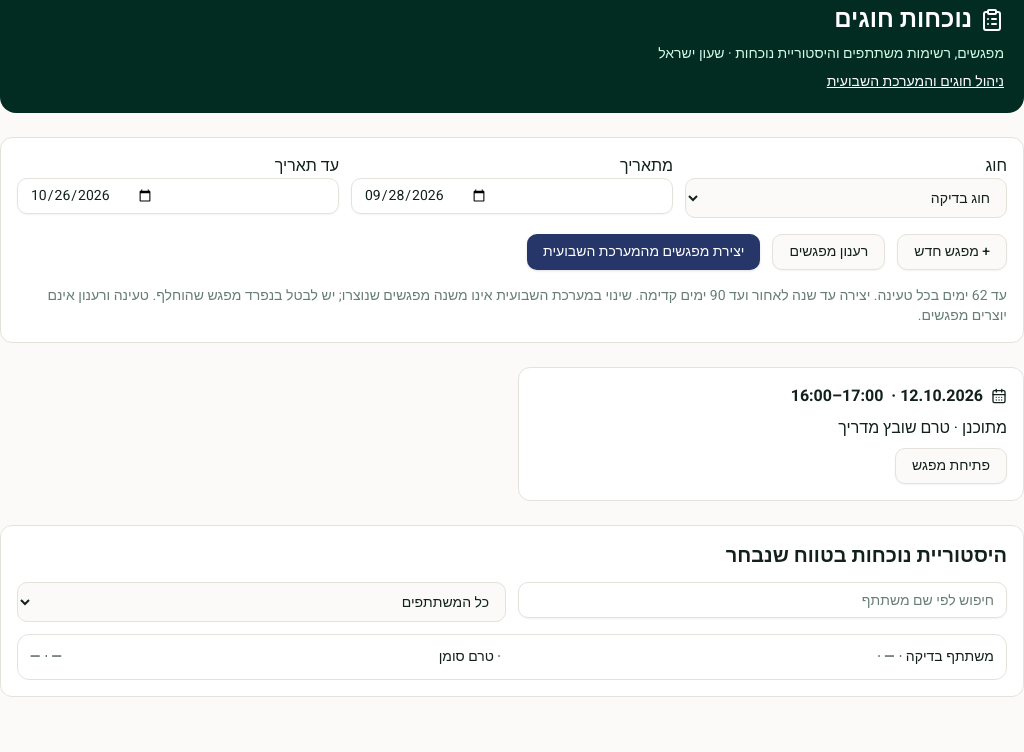
Test: marks carry version and notes, double click does not issue concurrent writes
Click the button "פתיחת מפגש" at (951, 466), box [895,448,1007,484]
(page scrolled)
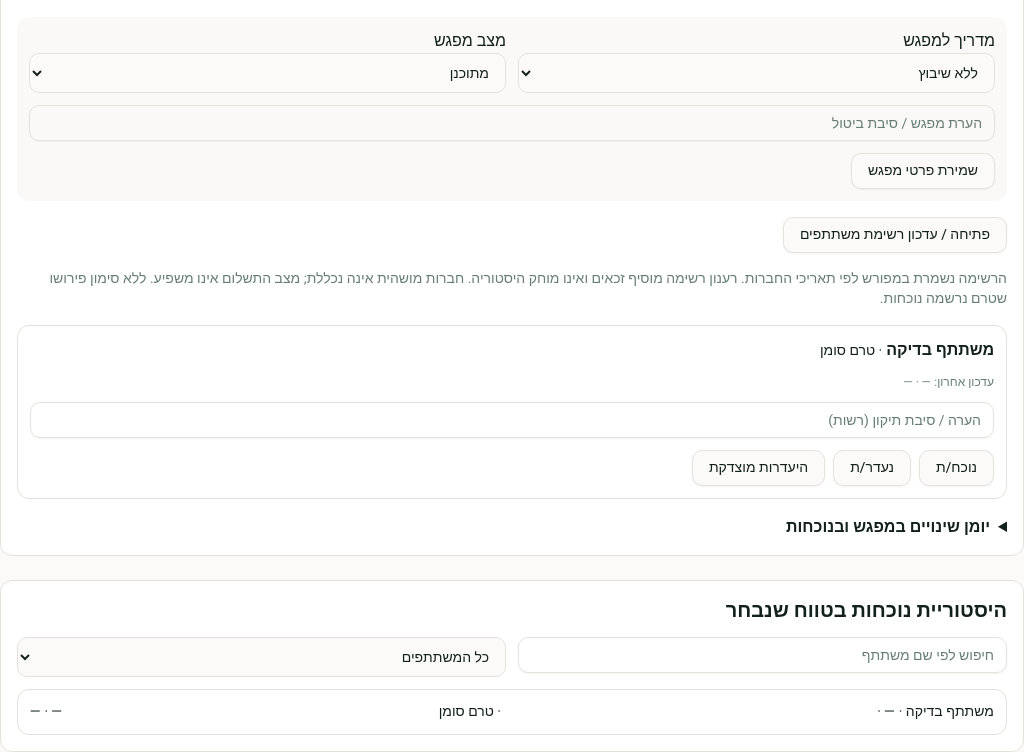
Type "תיקון" into the field named "הערה עבור משתתף בדיקה" at (512, 420), box [30,402,994,438]
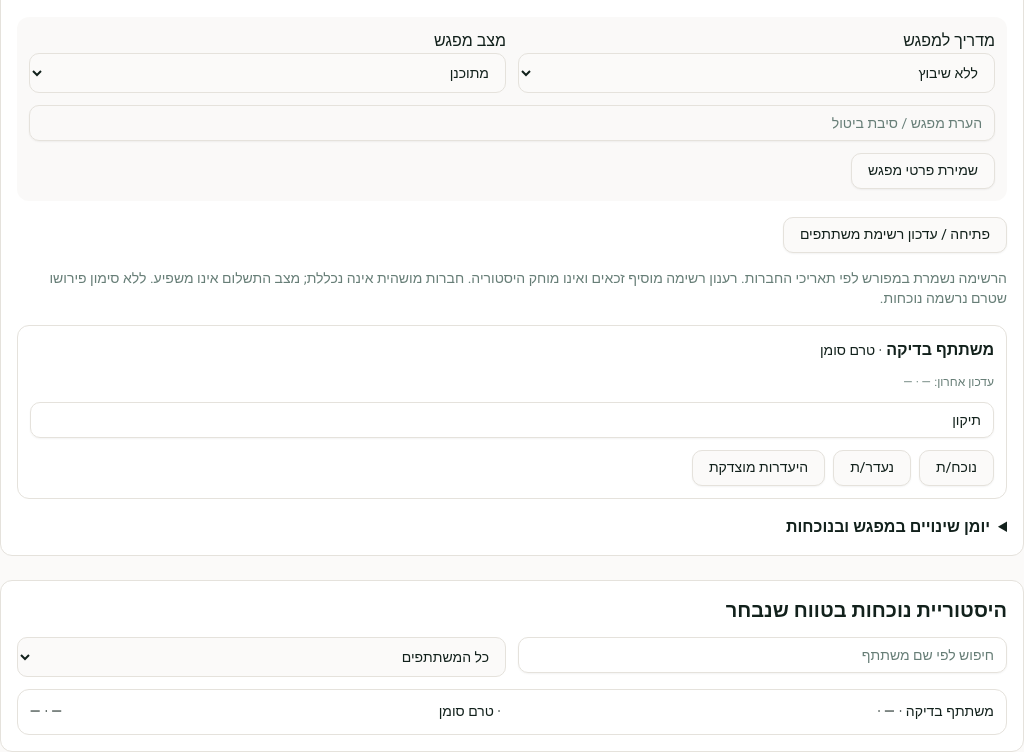
Click the button "נוכח/ת" at (956, 468), box [919,450,994,486]
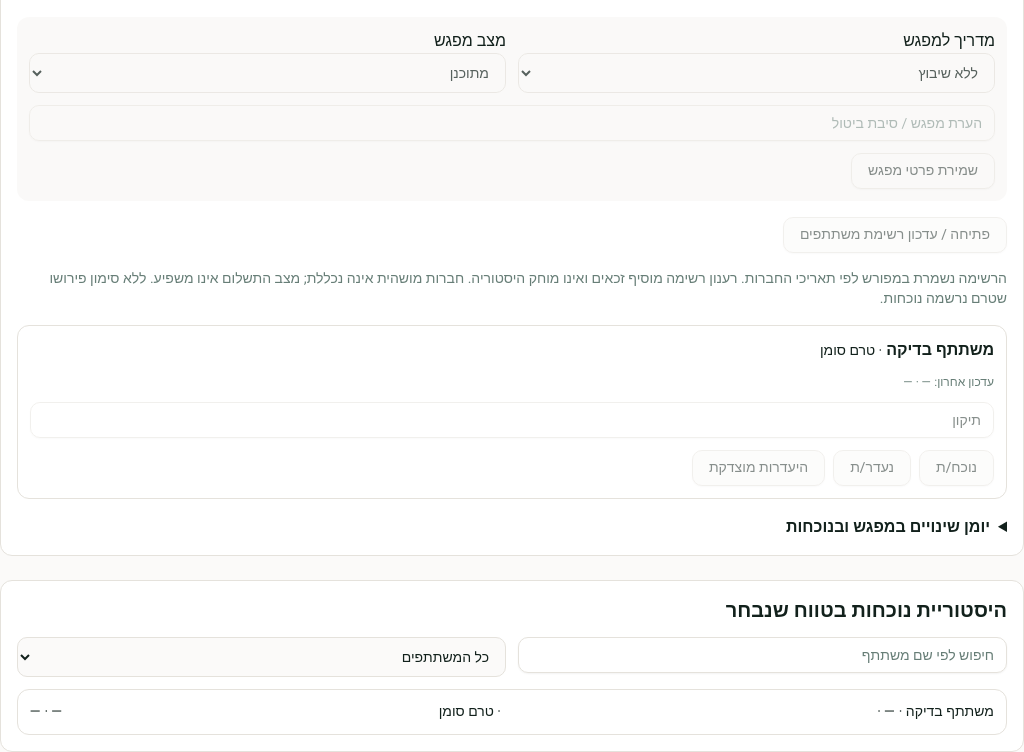
Click the button "נוכח/ת" at (956, 468), box [919,450,994,486]
(page scrolled)
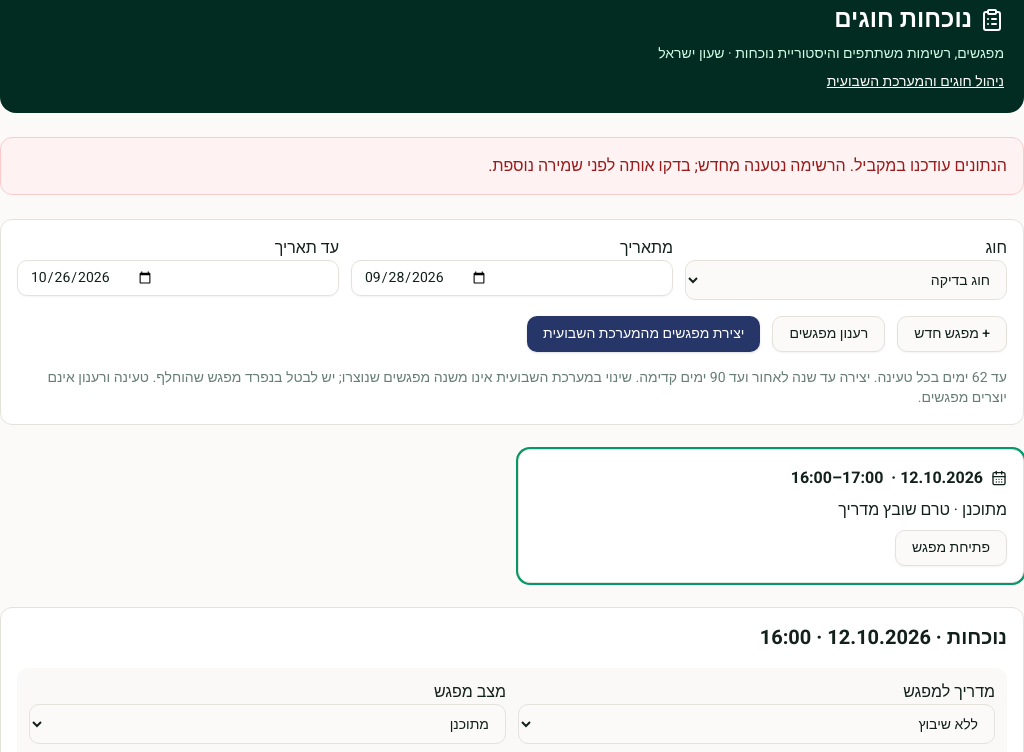
Expected: the message shows "עודכנו במקביל", [488,154,1007,178]
